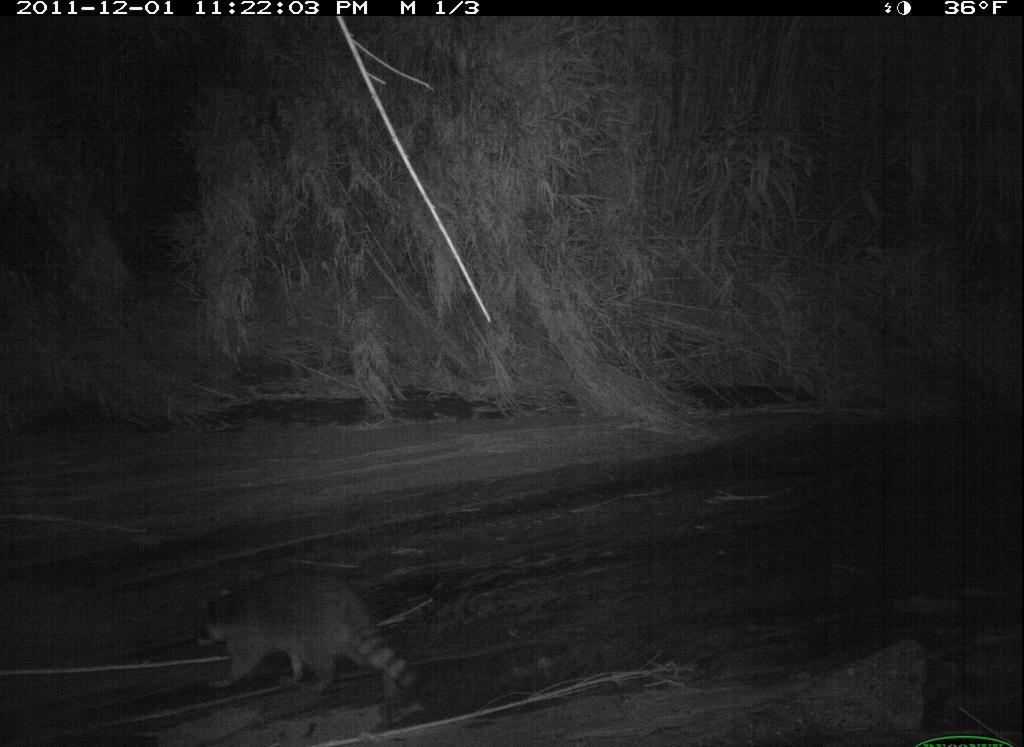raccoon: (176, 546, 457, 708)
